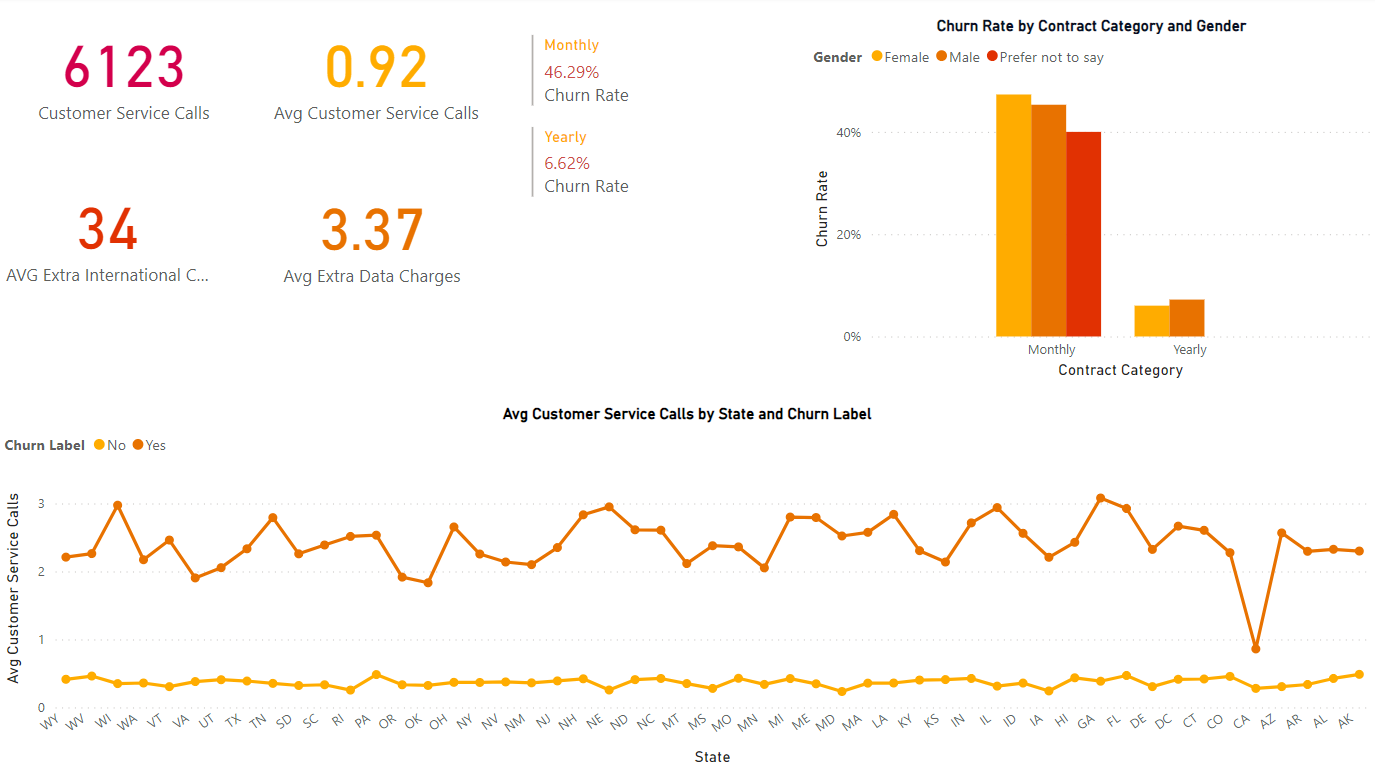

Layout of this report page (visuals, bound fields, positions):
{"tool":"powerbi","page":{"name":"insights","canvas":[1280,720],"ordinal":2},"visuals":[{"type":"card","fields":{"Values":["Sum(Databel - Data.Customer Service Calls)"]},"box":[9.3,0,213.9,139.5],"z":0},{"type":"card","fields":{"Values":["Databel - Data.AVG Extra International Charges"]},"box":[0,160.4,202.3,119.7],"z":1000},{"type":"card","fields":{"Values":["Databel - Data.Avg Extra Data Charges"]},"box":[240.7,153.5,212.8,136],"z":2000},{"type":"card","fields":{"Values":["Databel - Data.Avg Customer Service Calls"]},"box":[240.7,0,220.9,139.5],"z":3000},{"type":"lineChart","fields":{"Y":["Databel - Data.Avg Customer Service Calls"],"Series":["Databel - Data.Churn Label"],"Category":["Databel - Data.State"]},"box":[0,380,1280,340.2],"z":4000},{"type":"clusteredColumnChart","fields":{"Category":["Databel - Data.Contract Category"],"Y":["Databel - Data.Churn Rate"],"Series":["Databel - Data.Gender"]},"box":[752.2,18.6,527.8,341.8],"z":4001},{"type":"multiRowCard","fields":{"Values":["Databel - Data.Contract Category","Databel - Data.Churn Rate"]},"box":[490.6,31.4,163.9,258.1],"z":4002}]}

Visuals, with their boxes in screenshot pixels (x1, y1, x2, y2), scaled from the page's 1280x720 canvas onto the 1375x767 screenshot:
card - Sum(Databel - Data.Customer Service Calls): left=10, top=0, right=240, bottom=149
card - Databel - Data.AVG Extra International Charges: left=0, top=171, right=217, bottom=298
card - Databel - Data.Avg Extra Data Charges: left=259, top=164, right=487, bottom=308
card - Databel - Data.Avg Customer Service Calls: left=259, top=0, right=496, bottom=149
lineChart - Databel - Data.Avg Customer Service Calls x Databel - Data.Churn Label: left=0, top=405, right=1374, bottom=766
clusteredColumnChart - Databel - Data.Contract Category x Databel - Data.Churn Rate: left=808, top=20, right=1374, bottom=384
multiRowCard - Databel - Data.Contract Category x Databel - Data.Churn Rate: left=527, top=33, right=703, bottom=308
